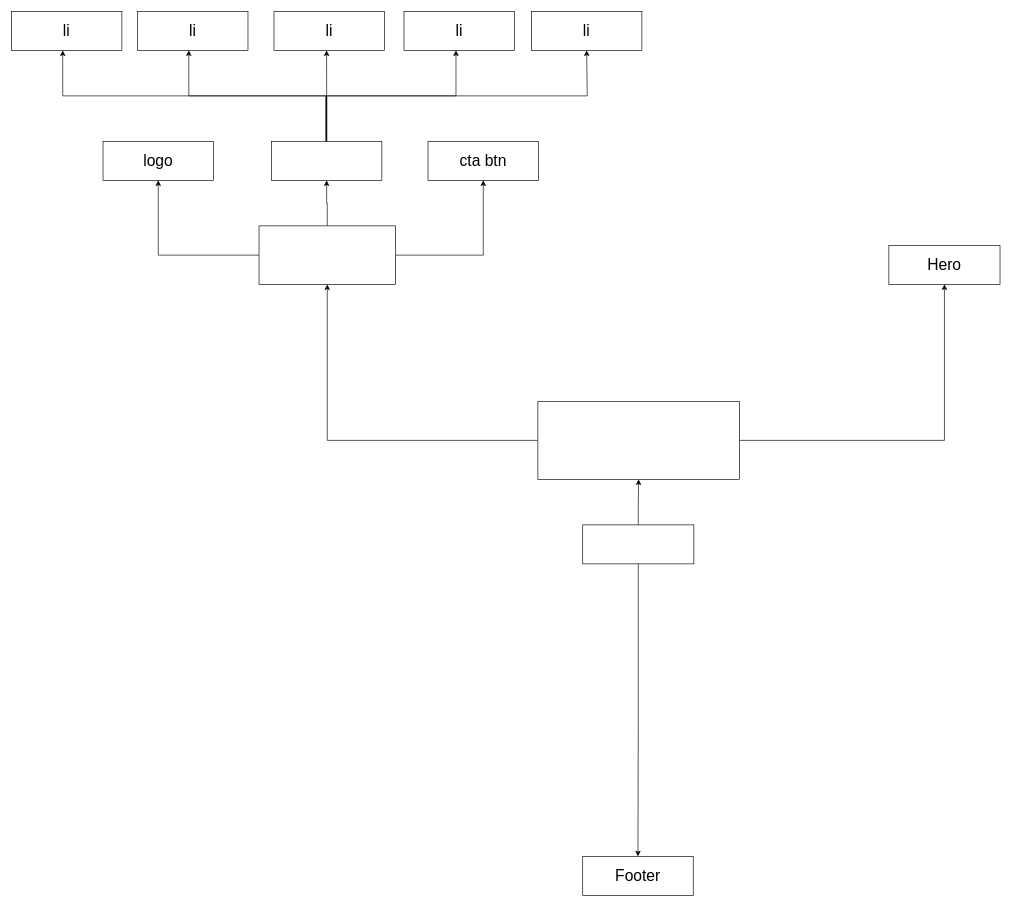
The diagram is 1011 pixels wide and 907 high, and some of its shapes have lost their labels. The centre of each missing label's shape, as x and y in pixels:
Body: point 638,544
header(space-between): point 327,254
top-wrapper (used beacuse of the photo image on the bg): point 638,440
ul: point 326,160
